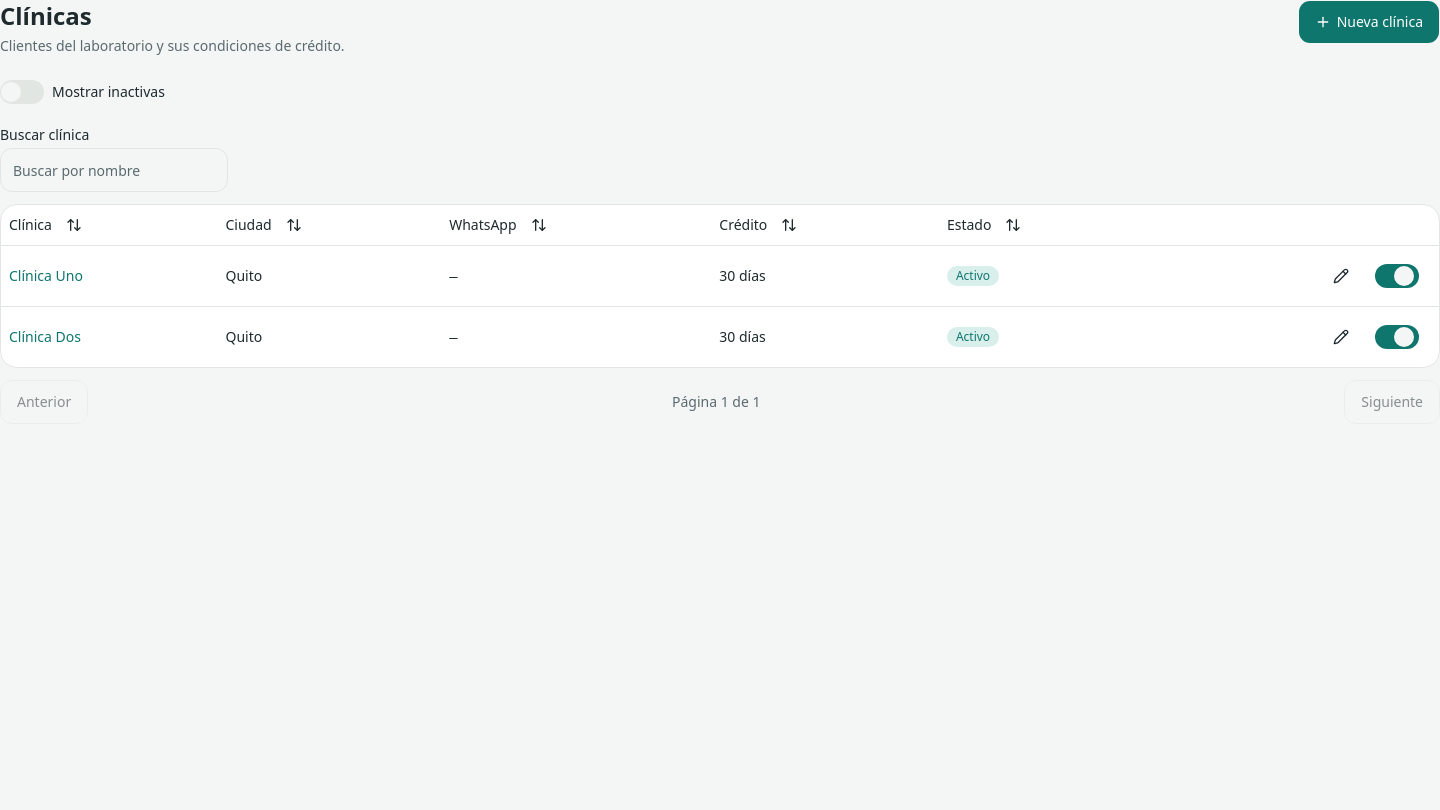
Test: ClinicsPage ?editar (AVI-4) › tras el 404 no queda petición viva: «Nueva clínica» abre sin foco de WhatsApp ni vuelta
This screenshot has width=1440, height=810.
Click the button "Nueva clínica" at (1369, 22), box [1298, 0, 1439, 44]
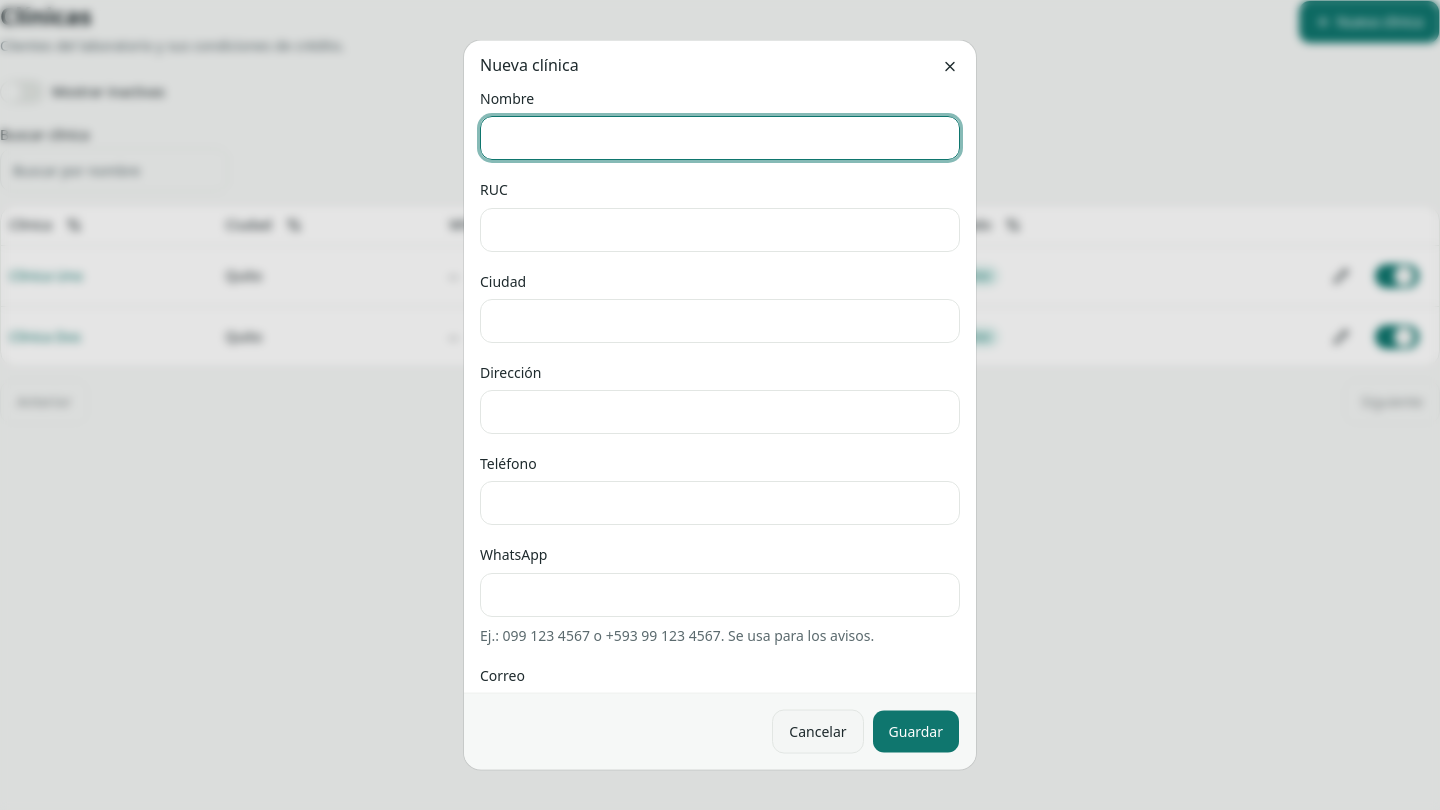
Click the button "Cancelar" at (818, 732), box [772, 710, 864, 754]
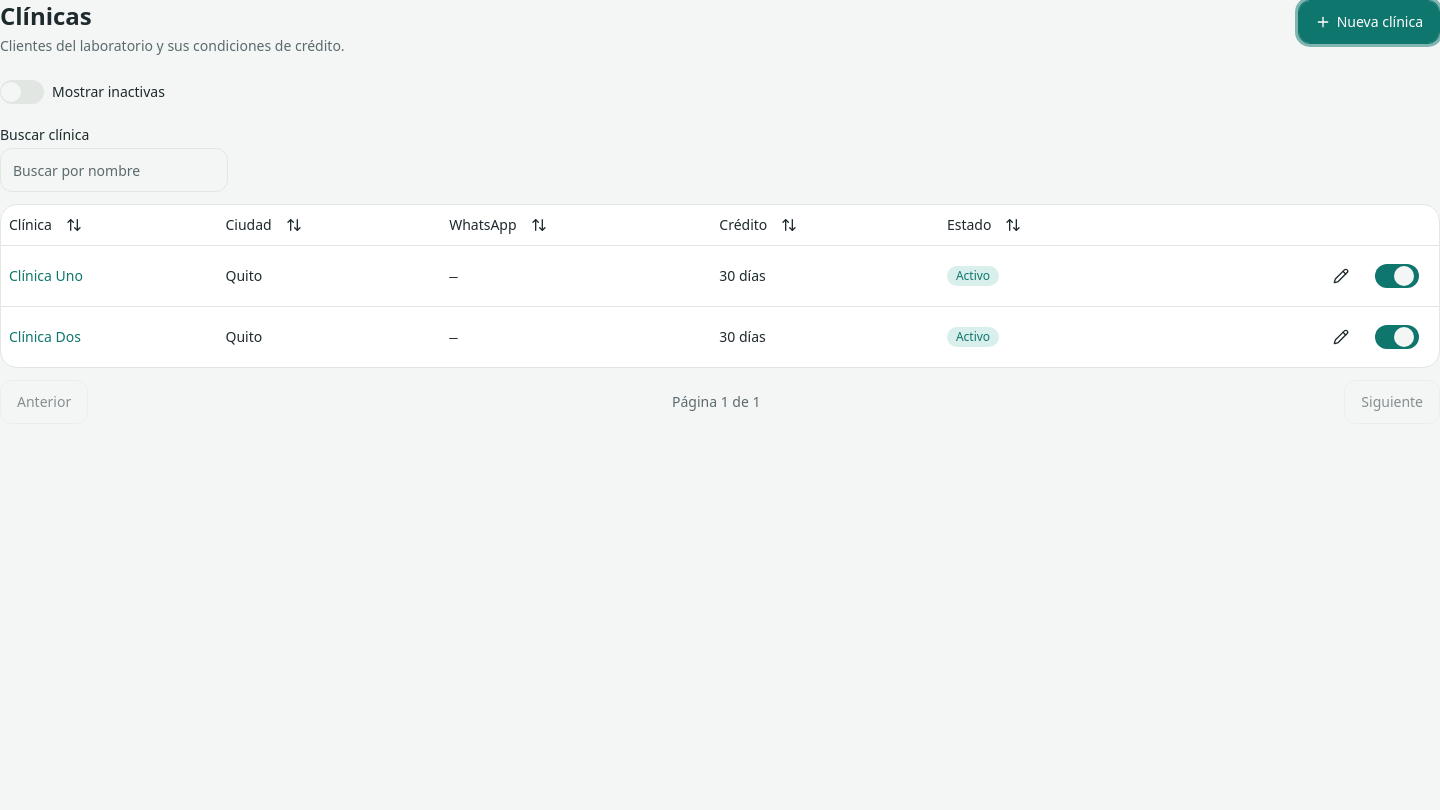
Check: the dialog is gone
